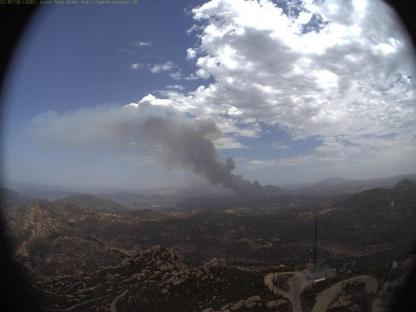smoke: (32, 98, 292, 208)
